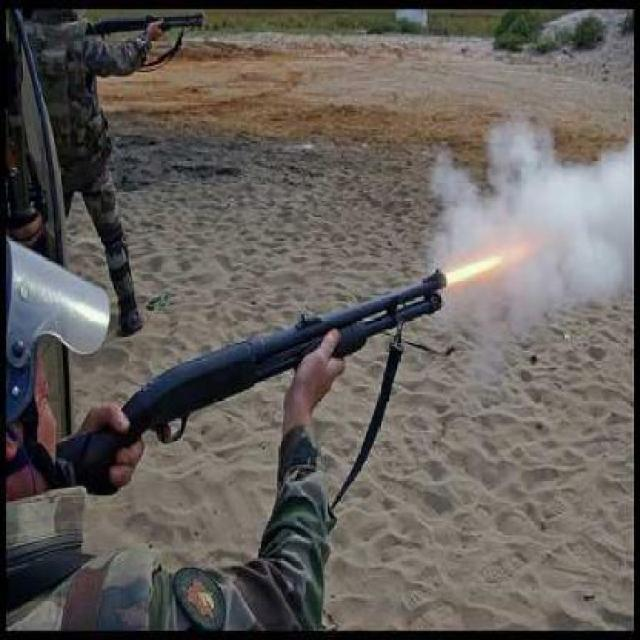weapon: (47, 270, 450, 497)
